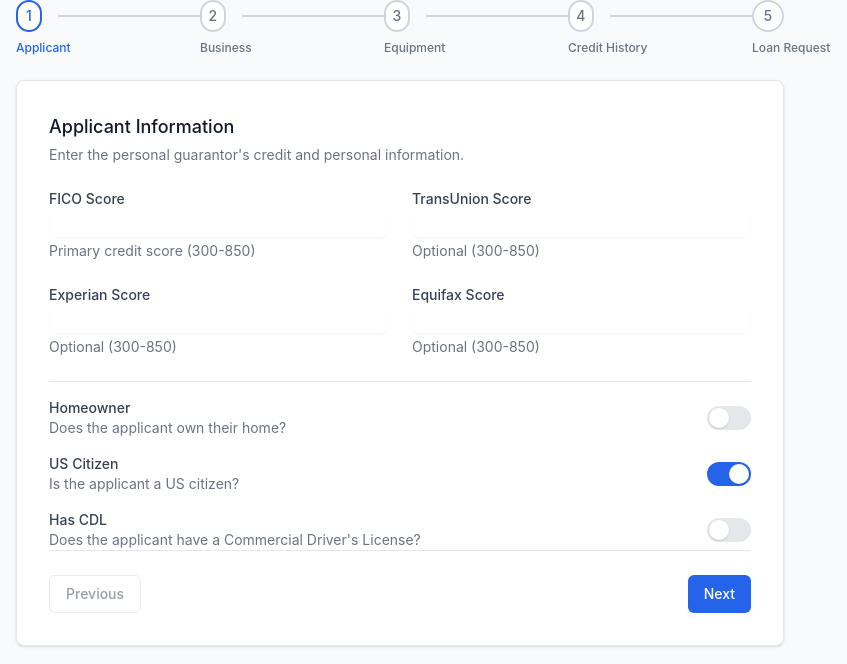
Scenario: ApplicationForm › validates_before_next_step
Don't fill in required field, just click next
Click the button "Next" at point(719, 594), box [688, 575, 751, 613]
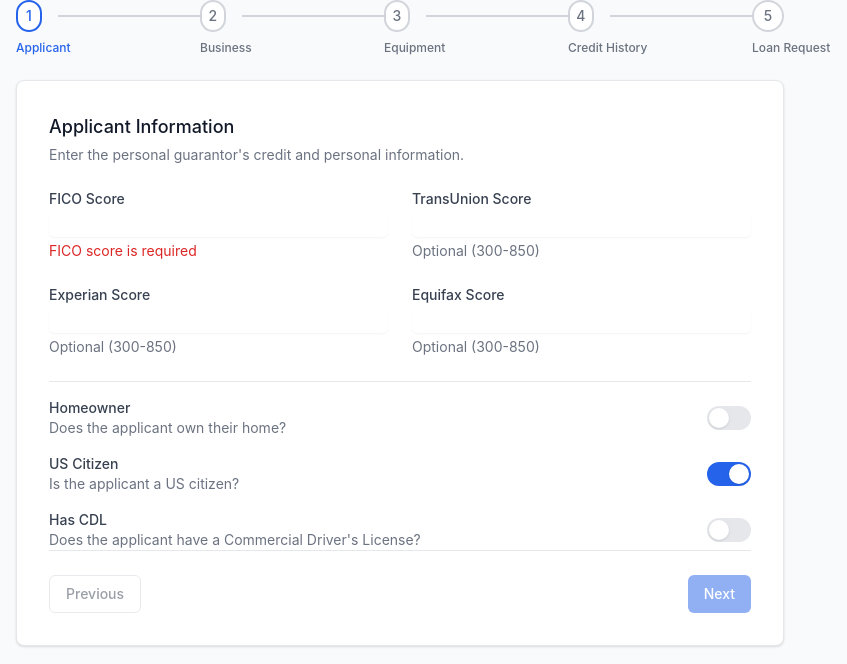
Expected: the heading "Applicant Information" is shown, [49, 116, 234, 137]
Expected: the text "FICO score is required" is shown, [49, 242, 197, 259]
